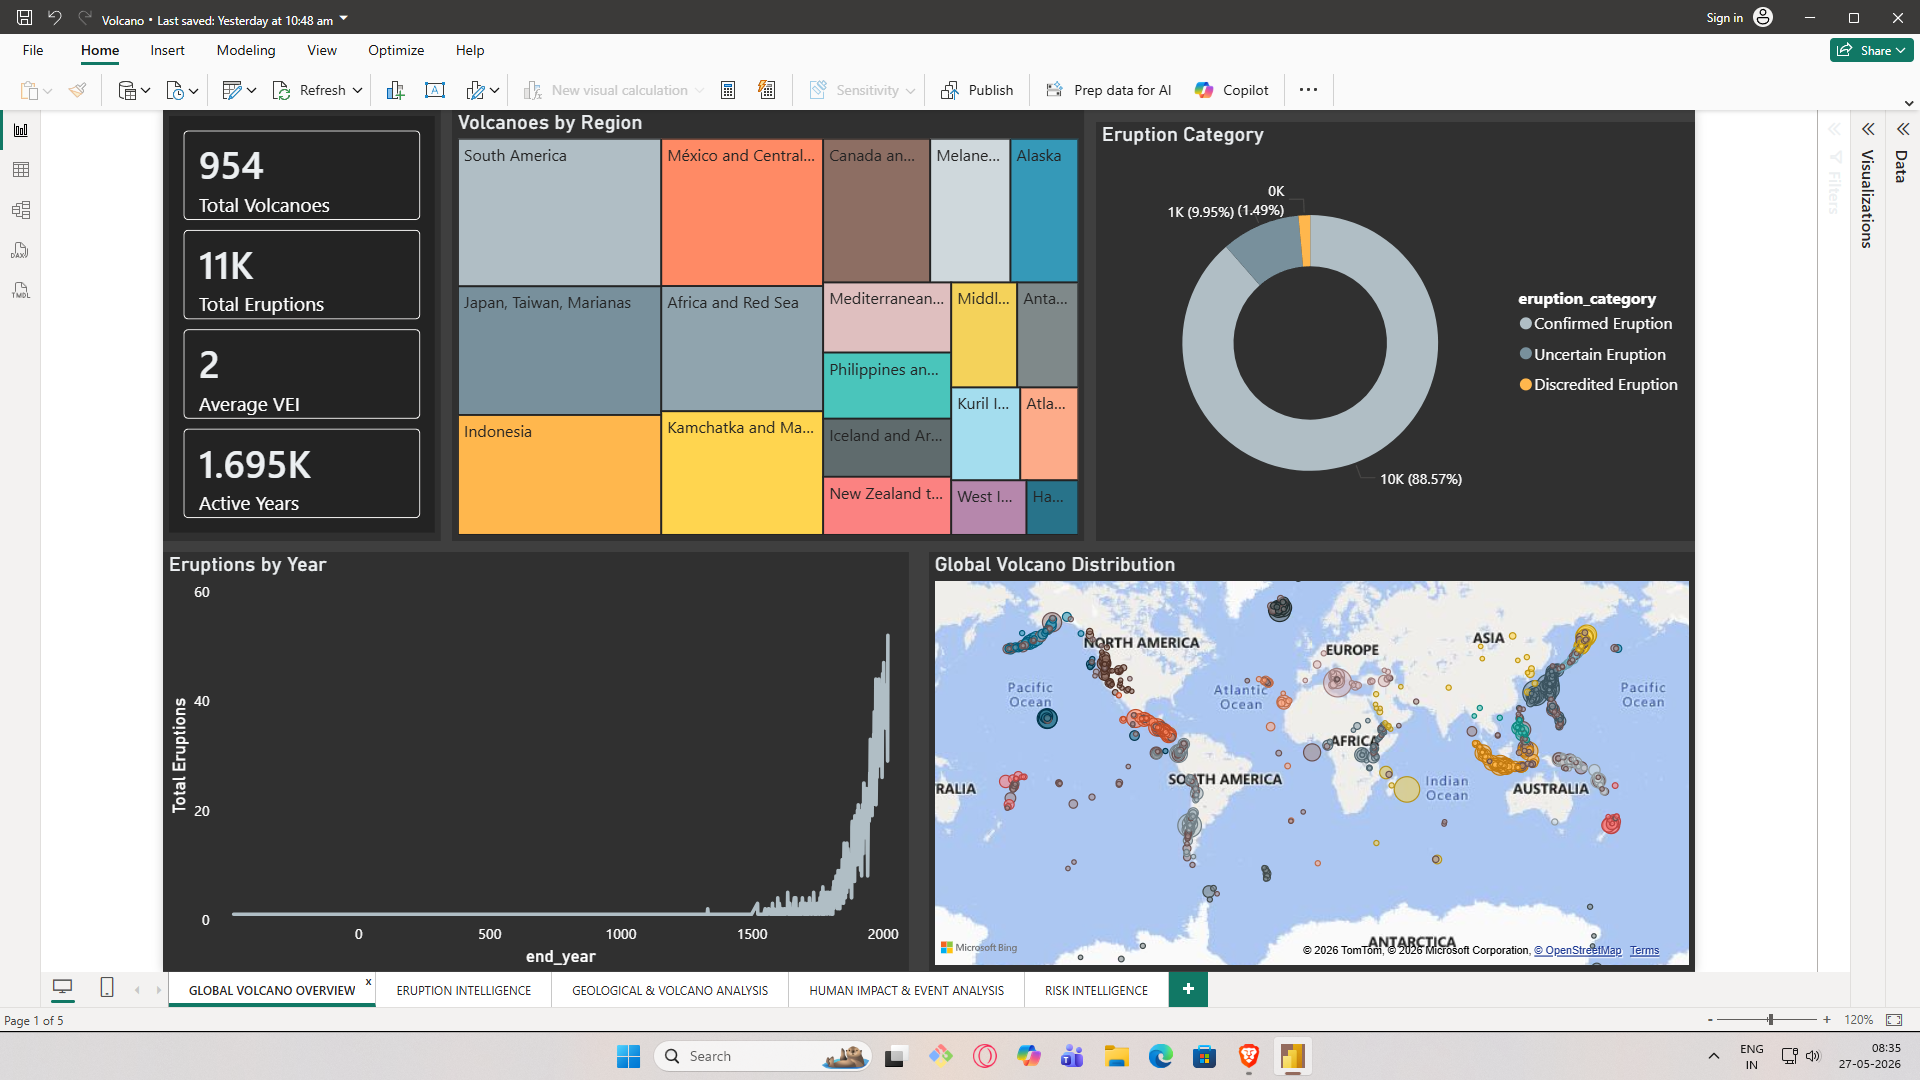

This screenshot's page, from the dashboard's own definition file:
{"tool":"powerbi","page":{"name":"GLOBAL VOLCANO OVERVIEW","canvas":[1280,720],"ordinal":0},"visuals":[{"type":"cardVisual","fields":{"Data":["eruptions.Total Volcanoes","eruptions.Total Eruptions","eruptions.Average VEI","eruptions.Active Years"]},"box":[0,0,232.5,359.9],"z":0},{"type":"lineChart","title":"Eruptions by Year","fields":{"Y":["eruptions.Total Eruptions"],"Category":["eruptions.end_year"]},"box":[0,369.6,623.5,350.2],"z":1000},{"type":"treemap","title":"Volcanoes by Region","fields":{"Group":["volcano.region"],"Values":["CountNonNull(volcano.volcano_name)"]},"box":[241.2,0,528.1,359.9],"z":2000},{"type":"donutChart","title":"Eruption Category","fields":{"Y":["eruptions.Total Eruptions"],"Category":["eruptions.eruption_category"]},"box":[779.1,9.7,500.9,350.2],"z":3000},{"type":"map","title":"Global Volcano Distribution","fields":{"Y":["eruptions.latitude"],"X":["eruptions.longitude"],"Size":["eruptions.Total Eruptions"],"Series":["volcano.region"]},"box":[640,369.6,640,350.2],"z":4000}]}

Visuals, with their boxes on the page's 1280x720 design canvas (x1, y1, x2, y2). These are canvas units, not pixel positions in the 1920x1080 screenshot, which may show the page scaled, cropped or inside an application window:
cardVisual - eruptions.Total Volcanoes x eruptions.Total Eruptions: {"left": 0, "top": 0, "right": 232, "bottom": 360}
"Eruptions by Year" lineChart: {"left": 0, "top": 370, "right": 624, "bottom": 720}
"Volcanoes by Region" treemap: {"left": 241, "top": 0, "right": 769, "bottom": 360}
"Eruption Category" donutChart: {"left": 779, "top": 10, "right": 1280, "bottom": 360}
"Global Volcano Distribution" map: {"left": 640, "top": 370, "right": 1280, "bottom": 720}
